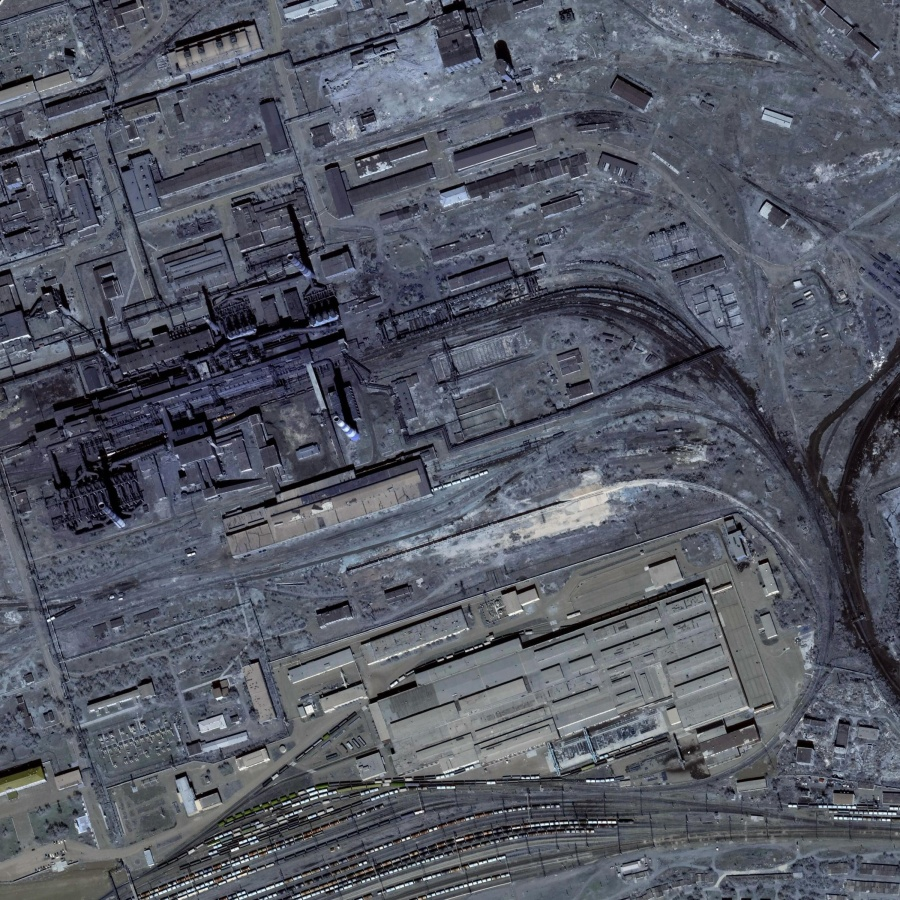PowerPlant: (28, 241, 380, 535)
